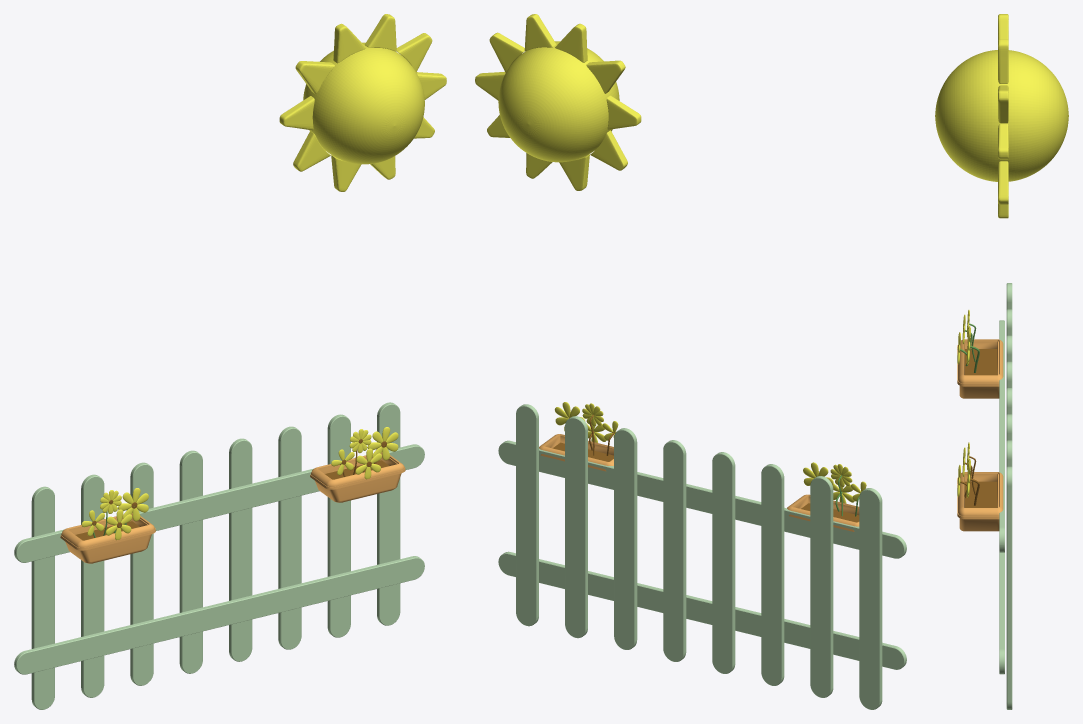
Rendered from flowers.glb.
3 renders of one model, left to right at view 1: azimuth 30°, elevation 25°; view 2: azimuth 150°, elevation 25°; view 3: azimuth 270°, elevation 25°, orthographic. The views are drawn at different scales.
Visible parts, largest first — view 1: sol, Extrude.1, Extrude, Cube-maceta (×2), Extrude 4, Extrude 5, Extrude 3, Extrude 0, Extrude 6, Extrude 1, Extrude 2, Extrude 7; view 2: sol, Extrude.1, Extrude, Extrude 0, Extrude 1, Extrude 2, Extrude 3, Extrude 4, Extrude 5, Extrude 6, Extrude 7, Cube-maceta (×2); view 3: sol, Cube-maceta (×2), Extrude 7, Cube-circuloFlor (×2), Extrude, Extrude.1.
Boxes of the visible parts, box(x1,y1,x2,y2) form: sol: box(279, 14, 446, 191); Extrude.1: box(14, 556, 424, 674); Extrude: box(14, 444, 424, 562); Cube-maceta (×2): box(60, 452, 405, 563); Extrude 4: box(229, 438, 252, 661); Extrude 5: box(278, 426, 301, 649); Extrude 3: box(179, 450, 202, 673); Extrude 0: box(31, 486, 54, 709); Extrude 6: box(327, 414, 350, 637); Extrude 1: box(81, 474, 104, 697); Extrude 2: box(130, 462, 153, 685); Extrude 7: box(377, 402, 400, 625); sol: box(475, 14, 641, 190); Extrude.1: box(498, 551, 906, 669); Extrude: box(498, 440, 906, 558); Extrude 0: box(859, 488, 882, 709); Extrude 1: box(810, 476, 833, 697); Extrude 2: box(761, 464, 784, 685); Extrude 3: box(712, 452, 735, 673); Extrude 4: box(663, 440, 686, 661); Extrude 5: box(614, 428, 637, 649); Extrude 6: box(565, 416, 587, 638); Extrude 7: box(516, 404, 538, 626); Cube-maceta (×2): box(539, 434, 859, 531); sol: box(935, 14, 1068, 218); Cube-maceta (×2): box(957, 339, 1003, 531); Extrude 7: box(1006, 466, 1012, 709); Cube-circuloFlor (×2): box(965, 349, 997, 507); Extrude: box(999, 320, 1004, 552); Extrude.1: box(999, 552, 1004, 674).
Bounding box in the file's own units: 61.11 × 83.17 × 15.1.
